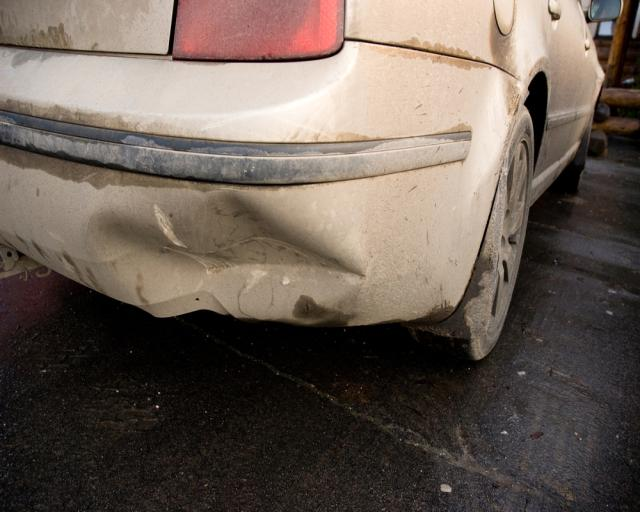dent: (88, 193, 361, 322)
